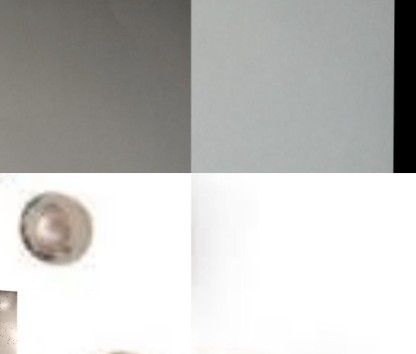ironball: (15, 185, 97, 268)
